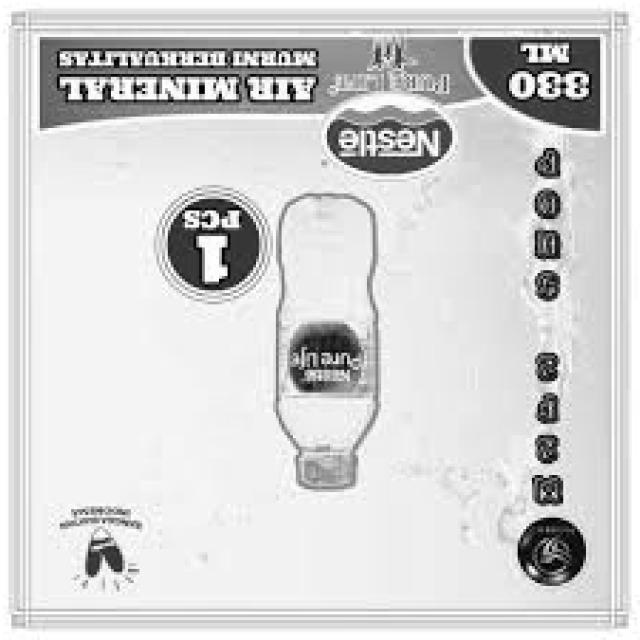good: (262, 183, 398, 490)
